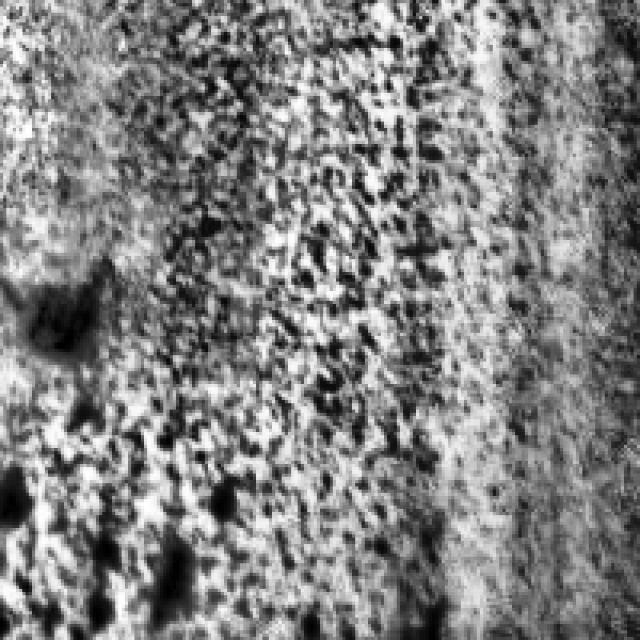Rolled_in_Scale: (86, 3, 458, 624)
Scratches: (0, 246, 112, 358)
